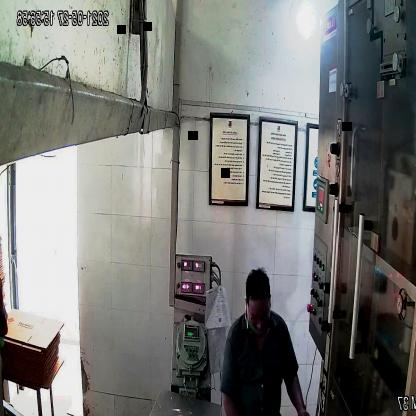goggles: (245, 303, 273, 329)
